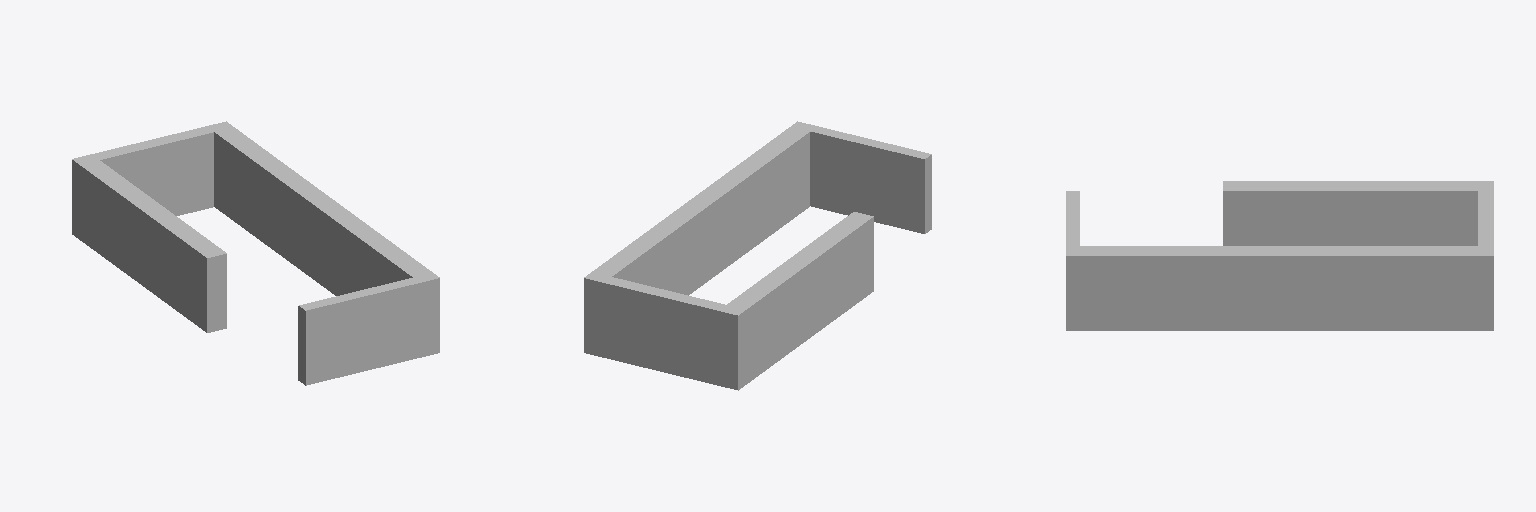
File: enclosement-Right.obj
The picture shows the model from 3 angles: view 1: azimuth 30°, elevation 25°; view 2: azimuth 150°, elevation 25°; view 3: azimuth 270°, elevation 25°; orthographic projection.
Parts seen in each view (by area): view 1: Cube; view 2: Cube; view 3: Cube.
Part boxes in pixels (left/top/right/bottom): Cube: left=72, top=121, right=439, bottom=385; Cube: left=584, top=121, right=931, bottom=390; Cube: left=1066, top=181, right=1493, bottom=330.
Bounding box in the file's own units: 54 × 25 × 129.